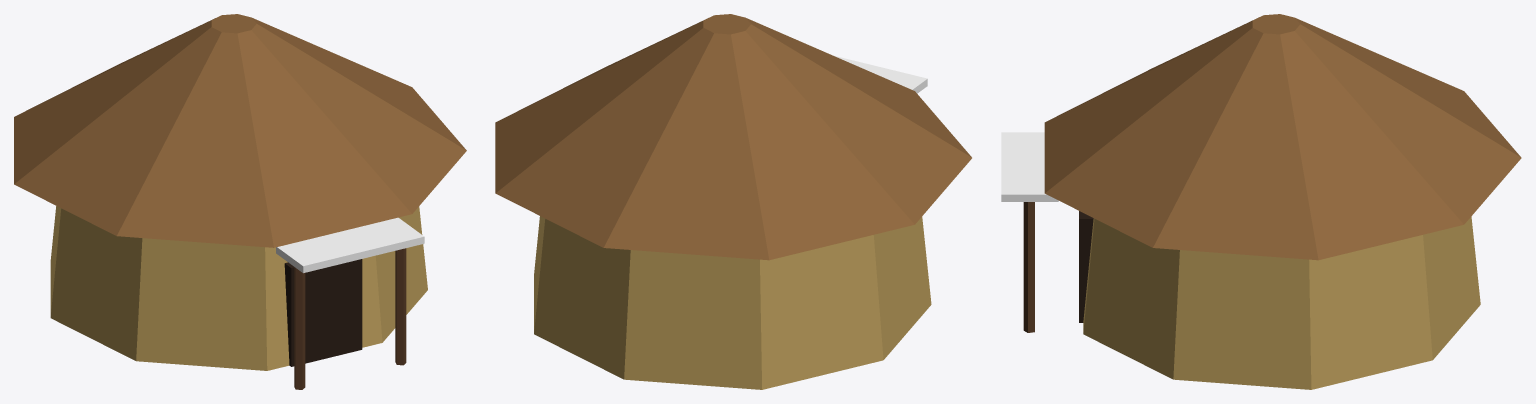
The model's file is hut_reed.glb.
3 views of the same model, side by side, from view 1: azimuth 30°, elevation 25°; view 2: azimuth 150°, elevation 25°; view 3: azimuth 270°, elevation 25° (orthographic). The views are drawn at different scales.
Parts seen in each view (by area): view 1: part.001, part, part.002, part.005, part.003, part.004; view 2: part.001, part, part.005; view 3: part.001, part, part.005, part.004, part.002.
Boxes of the visible parts, bbox=[...] form: part.001: bbox=[14, 14, 466, 247]; part: bbox=[50, 206, 427, 370]; part.002: bbox=[284, 259, 362, 366]; part.005: bbox=[276, 217, 424, 273]; part.003: bbox=[294, 267, 305, 389]; part.004: bbox=[395, 248, 406, 365]; part.001: bbox=[495, 14, 971, 260]; part: bbox=[534, 216, 931, 389]; part.005: bbox=[834, 56, 927, 93]; part.001: bbox=[1044, 14, 1521, 260]; part: bbox=[1083, 216, 1480, 389]; part.005: bbox=[1001, 132, 1058, 201]; part.004: bbox=[1023, 202, 1034, 332]; part.002: bbox=[1079, 211, 1093, 322].
Size of the model in its own units: 2.36 by 1.51 by 2.54.
